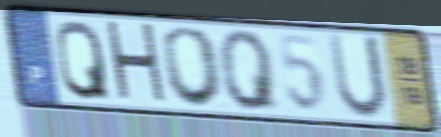5: (276, 31, 330, 117)
H: (102, 18, 172, 110)
O: (159, 25, 228, 110)
Q: (215, 27, 283, 114), (54, 17, 113, 103)
U: (324, 30, 391, 124)
